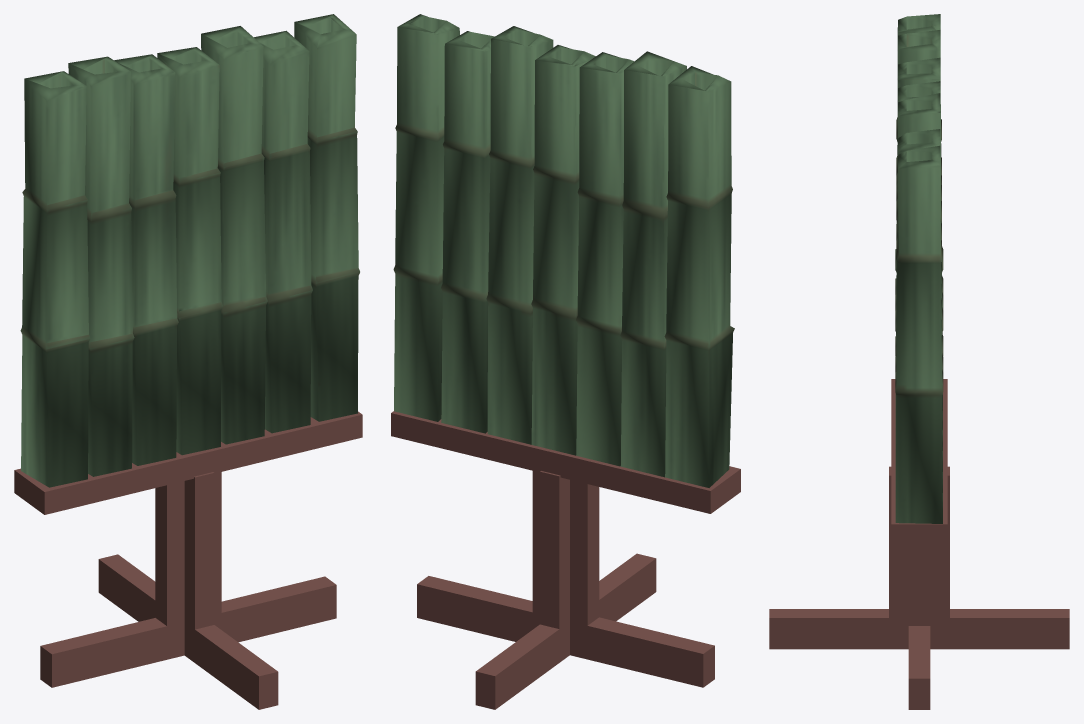
The model's file is bamboo_mid_7.glb.
3 views of the same model, side by side, from view 1: azimuth 30°, elevation 25°; view 2: azimuth 150°, elevation 25°; view 3: azimuth 270°, elevation 25° (orthographic). The views are drawn at different scales.
Parts seen in each view (by area): view 1: Obstacle, Stand; view 2: Obstacle, Stand; view 3: Obstacle, Stand.
Boxes of the visible parts, x1,y1,x2,y2 form: Obstacle: (20, 14, 359, 487); Stand: (14, 411, 362, 709); Obstacle: (393, 14, 734, 487); Stand: (391, 411, 740, 709); Obstacle: (895, 14, 943, 523); Stand: (769, 379, 1069, 709).
Bounding box in the file's own units: 1.45 × 2.63 × 1.26.
2 materials, 1 textured.
